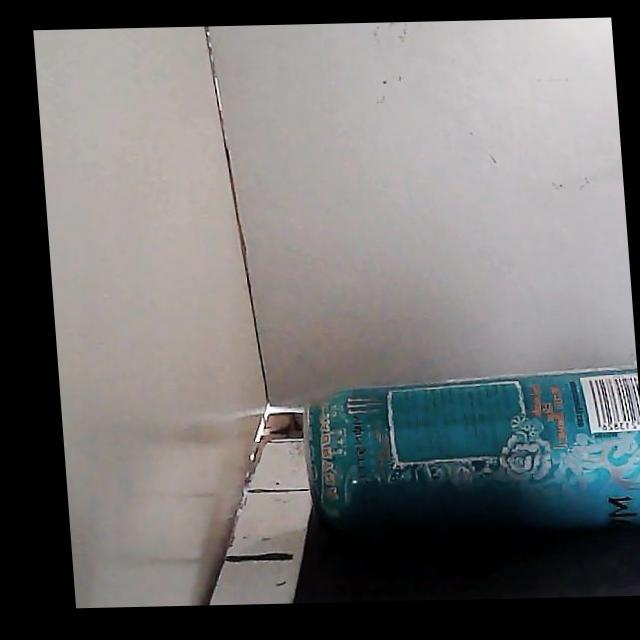metal: (303, 367, 639, 534)
